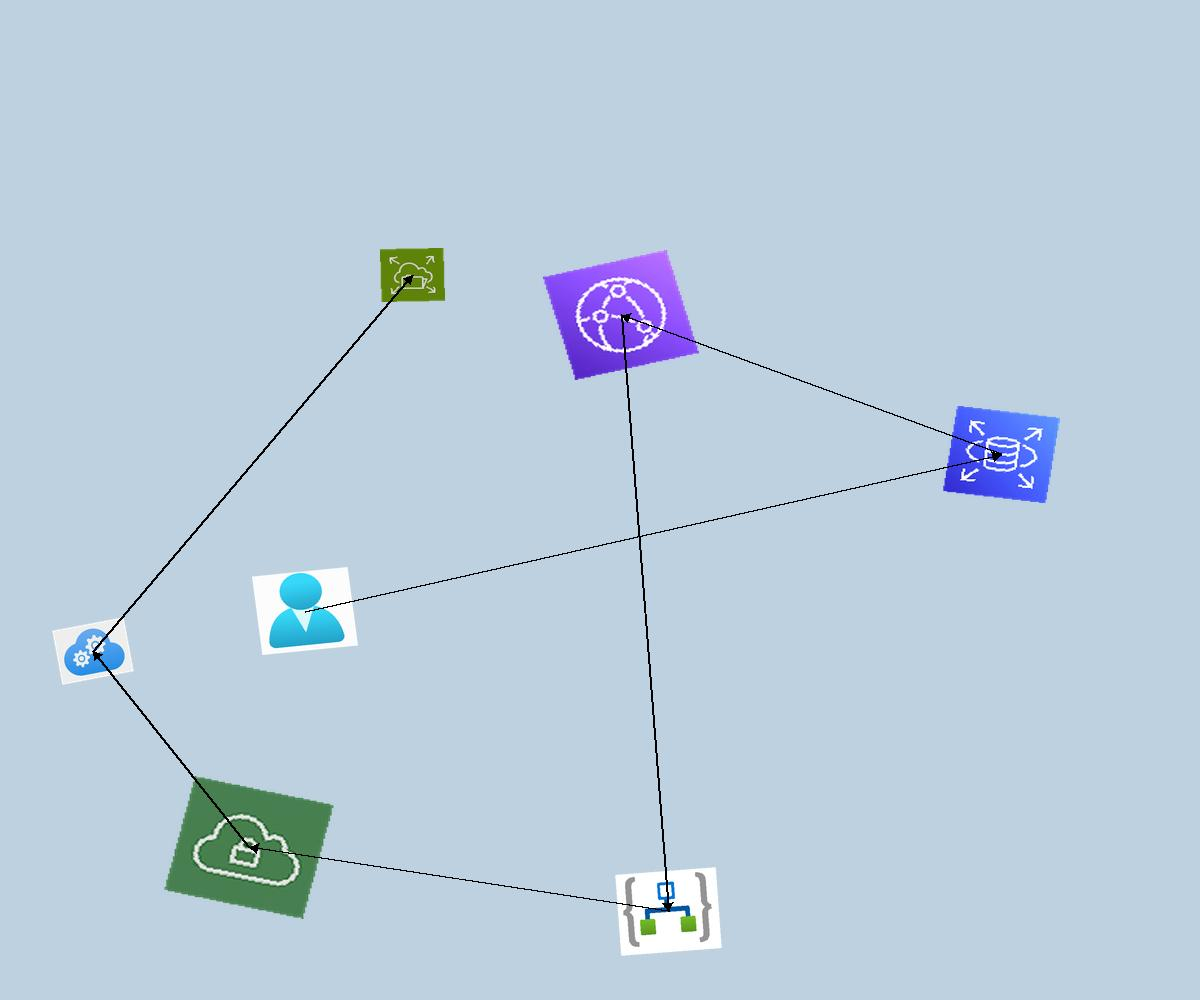AWS-CloudFront: (543, 250, 699, 380)
AWS-EFS: (380, 248, 445, 302)
AWS-Private_vpc: (163, 776, 335, 919)
AWS-RDS: (942, 405, 1061, 504)
Azure_cloud_services: (52, 617, 134, 685)
Azure_integration-204-Logic-Apps: (615, 867, 722, 956)
Azure_users: (252, 567, 358, 655)
